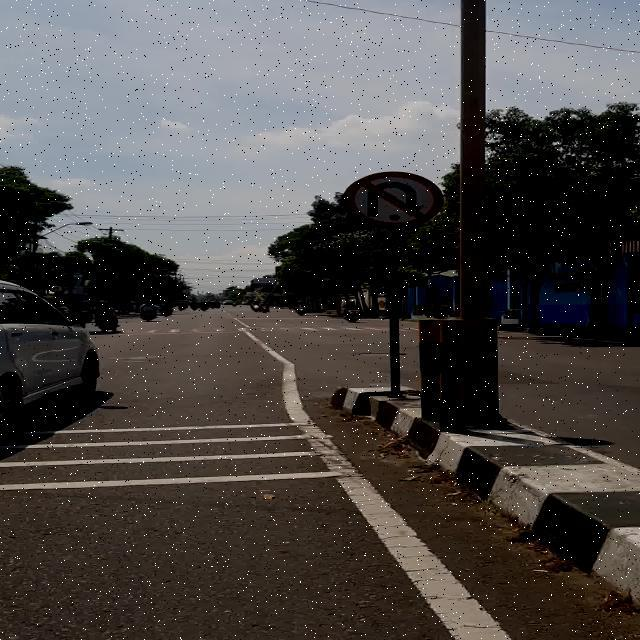Dilarang Putar Balik: (342, 170, 444, 228)
